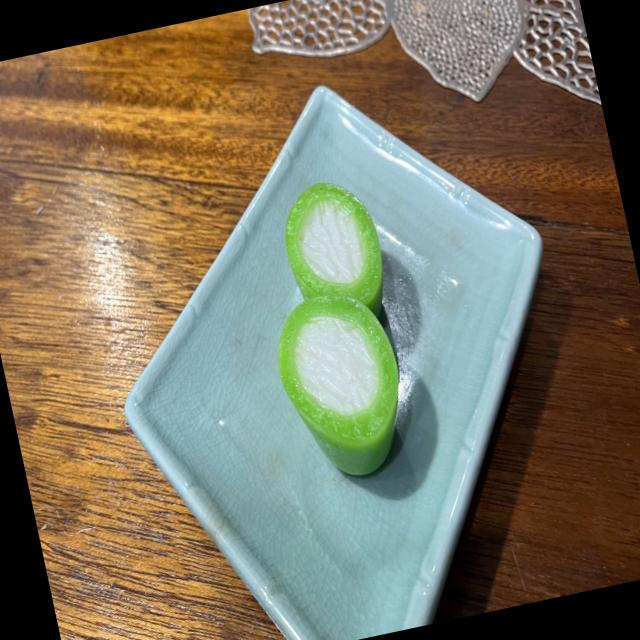nona-manis: (278, 295, 398, 476), (285, 181, 382, 315)
